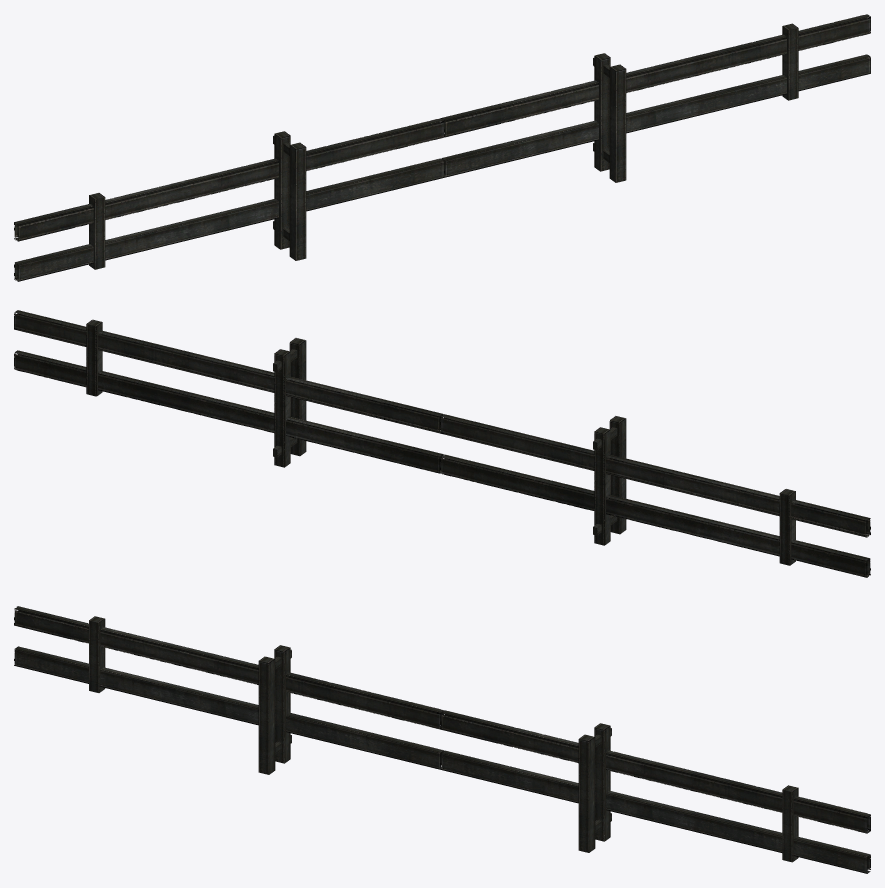
The model's file is tesla_dressing_generic_frame_01.dae.
The picture shows the model from 3 angles, top to bottom: view 1: azimuth 30°, elevation 25°; view 2: azimuth 150°, elevation 25°; view 3: azimuth 330°, elevation 25°; orthographic projection.
Parts seen in each view (by area): view 1: tesla_dressing_generic_frame_01; view 2: tesla_dressing_generic_frame_01; view 3: tesla_dressing_generic_frame_01.
Part boxes in pixels (x1,y1,x2,y2): tesla_dressing_generic_frame_01: (14,14,870,281); tesla_dressing_generic_frame_01: (14,310,870,577); tesla_dressing_generic_frame_01: (14,606,870,873).
Bounding box in the file's own units: 400 × 50 × 21.02.
